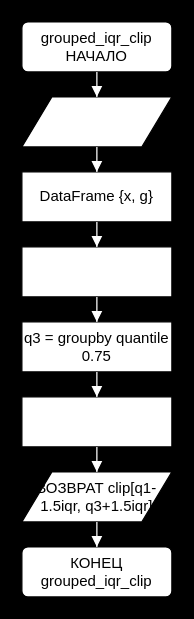
Image size: 194x619. Some labels were removed from this diagram. Each missing label, with the centre of its shape:
iqr = q3 - q1: the point at 96,421
q1 = groupby quantile 0.25: the point at 96,271
series, group_key: the point at 96,121
